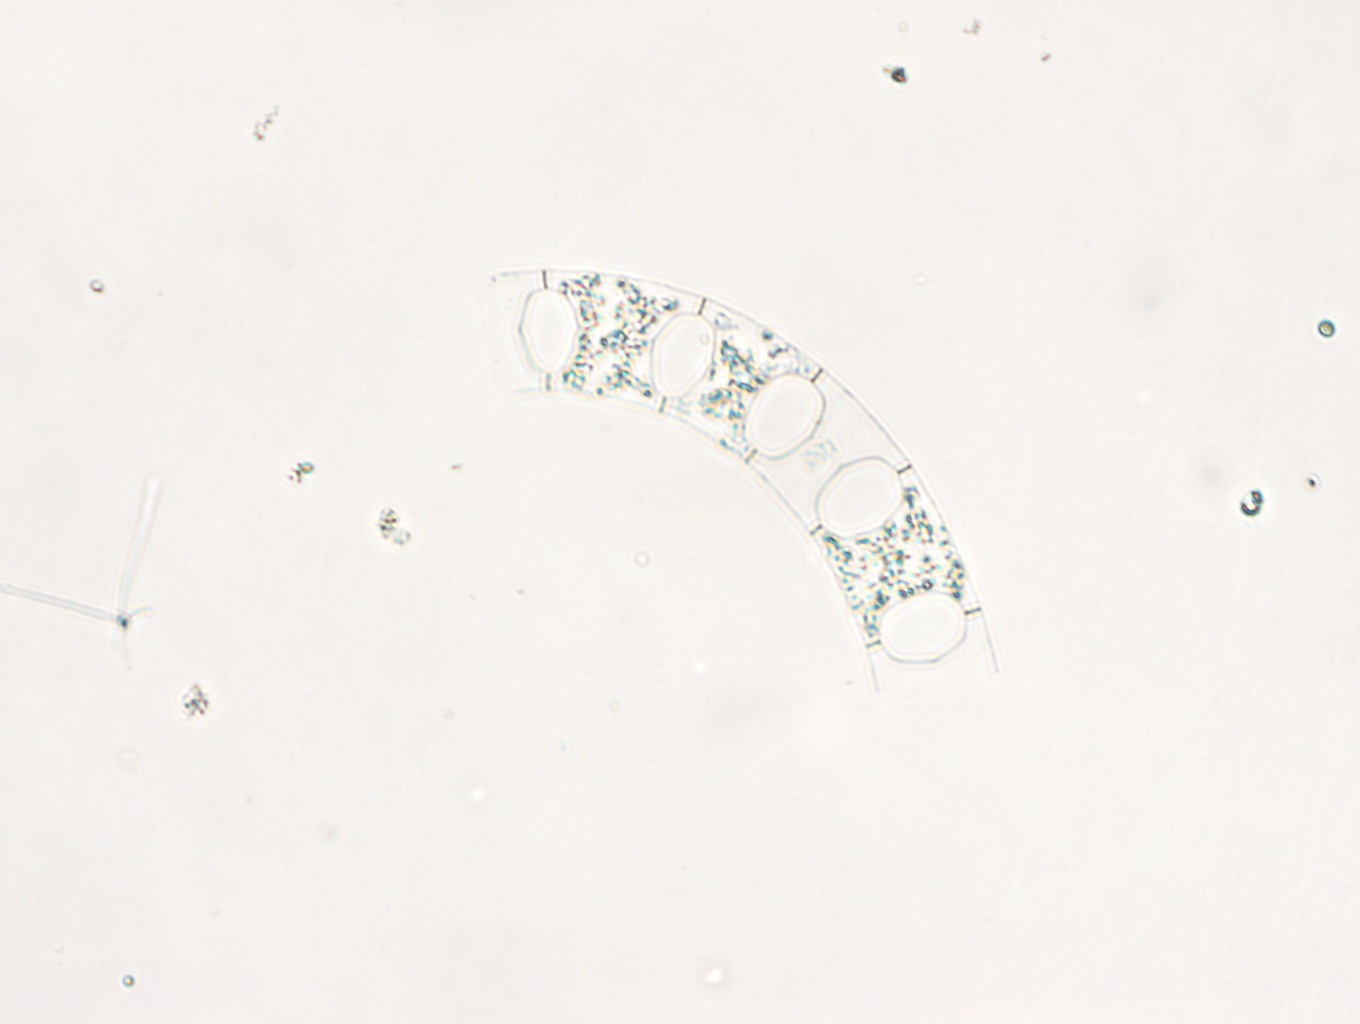eucampia: (492, 273, 999, 692)
